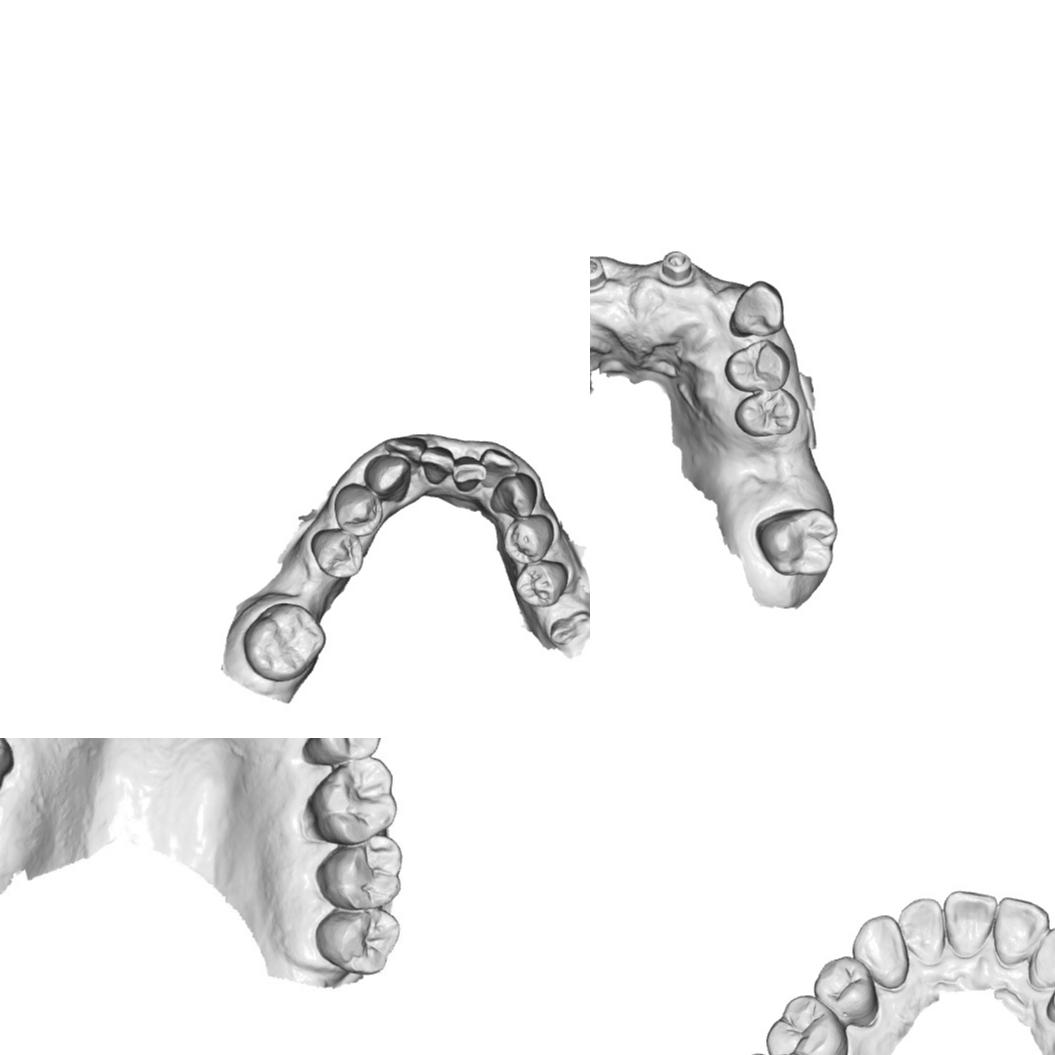canine: (850, 913, 911, 991), (728, 279, 786, 340), (362, 453, 413, 503), (488, 470, 537, 520)
implant: (657, 249, 696, 287), (590, 254, 610, 291)
incisor: (942, 888, 995, 962), (994, 894, 1050, 964), (897, 894, 945, 966), (477, 446, 518, 489), (418, 443, 454, 485), (1032, 925, 1055, 987), (452, 454, 486, 494), (382, 433, 429, 461)
molar: (307, 756, 398, 846), (241, 601, 327, 683), (315, 833, 403, 911), (754, 505, 839, 578), (314, 906, 400, 975), (764, 993, 850, 1055)
premolar: (813, 954, 880, 1026), (721, 338, 792, 394), (732, 387, 800, 439), (309, 528, 368, 579), (332, 481, 384, 537), (502, 514, 556, 564), (513, 559, 567, 608), (301, 738, 382, 767)
